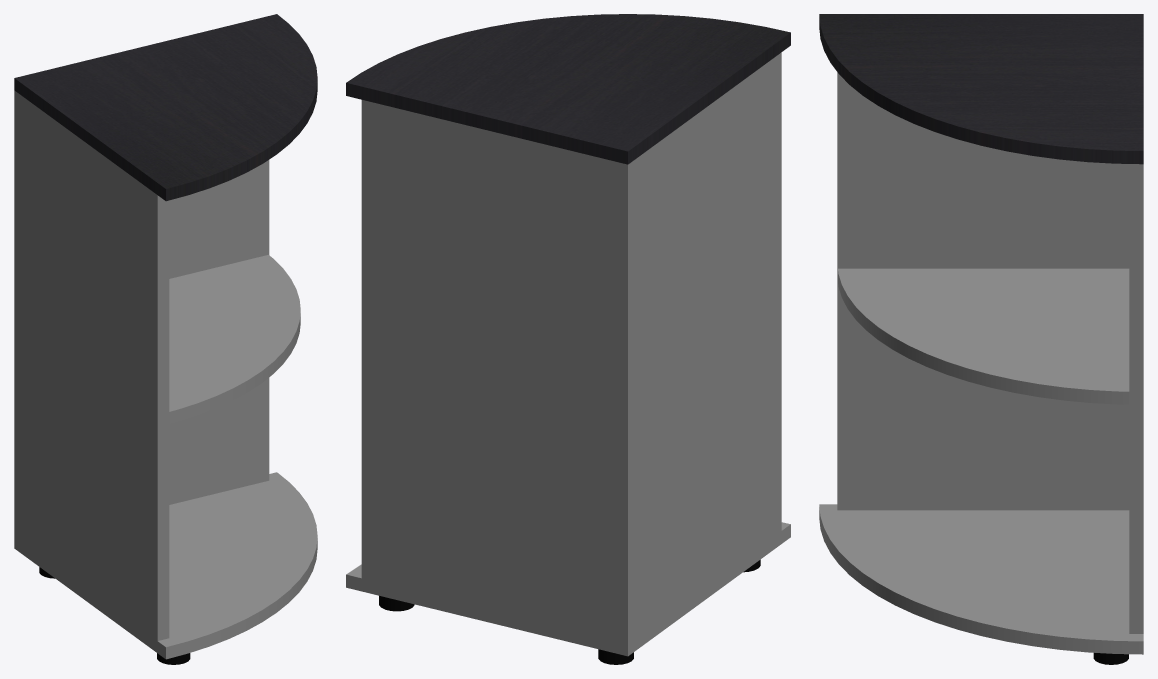
The model's file is angolo80W.obj.
The picture shows the model from 3 angles, left to right: view 1: azimuth 30°, elevation 25°; view 2: azimuth 150°, elevation 25°; view 3: azimuth 270°, elevation 25°; orthographic projection. The views are drawn at different scales.
Parts seen in each view (by area): view 1: Line60_2, Cylinder73_4, Cylinder70_1, Cylinder72_3; view 2: Line60_2, Cylinder73_4, Cylinder70_1, Cylinder72_3; view 3: Line60_2, Cylinder73_4, Cylinder70_1, Cylinder72_3.
Part boxes in pixels (left/top/right/bottom): Line60_2: left=14, top=90, right=269, bottom=640; Cylinder73_4: left=14, top=14, right=317, bottom=201; Cylinder70_1: left=14, top=472, right=317, bottom=659; Cylinder72_3: left=14, top=255, right=300, bottom=423; Line60_2: left=361, top=52, right=781, bottom=643; Cylinder73_4: left=346, top=14, right=790, bottom=164; Cylinder70_1: left=346, top=522, right=790, bottom=656; Cylinder72_3: left=361, top=290, right=781, bottom=408; Line60_2: left=837, top=72, right=1143, bottom=633; Cylinder73_4: left=819, top=14, right=1143, bottom=164; Cylinder70_1: left=819, top=504, right=1143, bottom=654; Cylinder72_3: left=838, top=268, right=1129, bottom=404.
Size of the model in its own units: 45 by 80 by 45.
3 materials, 1 textured.
